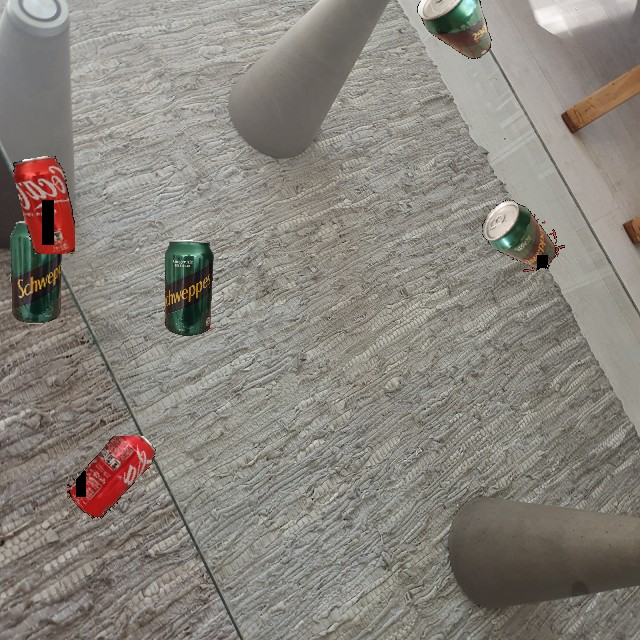coca cola: (67, 436, 156, 520), (12, 156, 75, 254)
schweppes: (410, 0, 507, 73), (481, 193, 565, 276), (10, 220, 63, 324), (164, 240, 214, 336)
